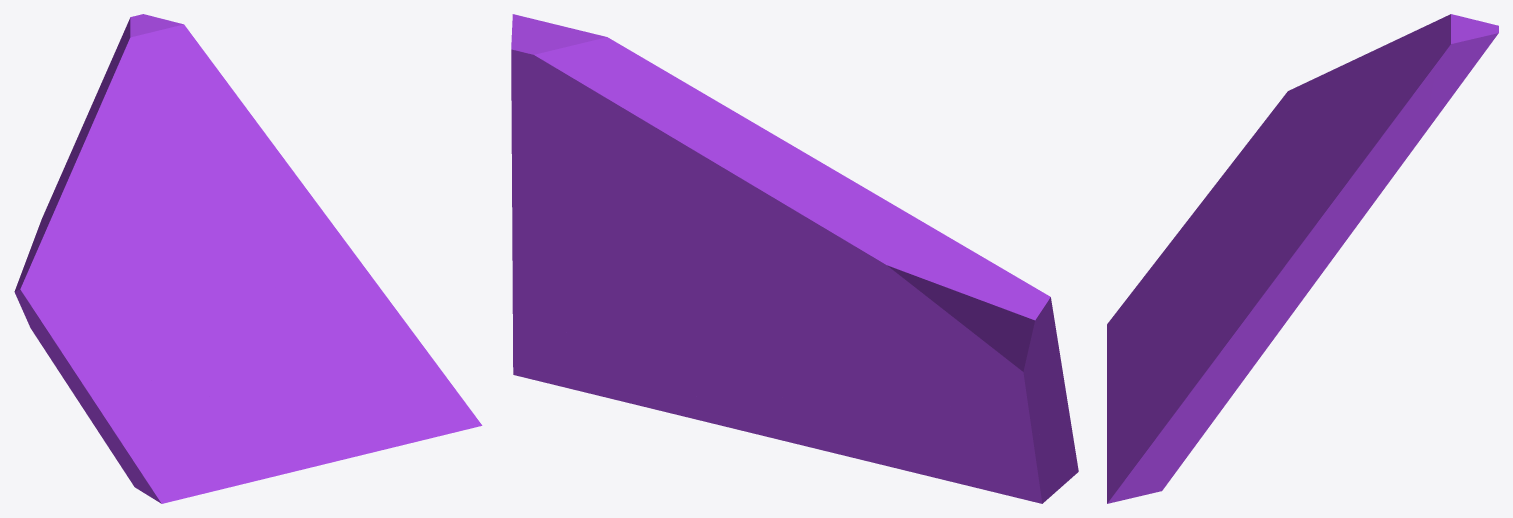
File: Window_131_2_chunks.fbx
The picture shows the model from 3 angles, left to right: view 1: azimuth 30°, elevation 25°; view 2: azimuth 150°, elevation 25°; view 3: azimuth 270°, elevation 25°; orthographic projection. The views are drawn at different scales.
Visible parts, largest first — view 1: Window_131_2_7, Window_131_2_0, Window_131_2_5, Window_131_2_11, Window_131_2_15, Window_131_2_8, Window_131_2_9, Window_131_2_3, Window_131_2_4, Window_131_2_10, Window_131_2_6, Window_131_2_14 (+1 smaller); view 2: Window_131_2_0, Window_131_2_11, Window_131_2_2, Window_131_2_9, Window_131_2_3, Window_131_2_1, Window_131_2_15, Window_131_2_8, Window_131_2_13, Window_131_2_5, Window_131_2_14, Window_131_2_4; view 3: Window_131_2_9, Window_131_2_7, Window_131_2_3, Window_131_2_15, Window_131_2_11, Window_131_2_0, Window_131_2_5, Window_131_2_10, Window_131_2_8, Window_131_2_4, Window_131_2_6, Window_131_2_14 (+1 smaller).
Part boxes in pixels (x1=…): Window_131_2_7: x1=169, y1=241, x2=347, y2=468; Window_131_2_0: x1=14, y1=132, x2=155, y2=418; Window_131_2_5: x1=95, y1=394, x2=305, y2=503; Window_131_2_11: x1=79, y1=14, x2=196, y2=158; Window_131_2_15: x1=327, y1=341, x2=482, y2=441; Window_131_2_8: x1=106, y1=150, x2=278, y2=263; Window_131_2_9: x1=217, y1=125, x2=362, y2=264; Window_131_2_3: x1=265, y1=263, x2=424, y2=348; Window_131_2_4: x1=84, y1=238, x2=172, y2=425; Window_131_2_10: x1=169, y1=41, x2=258, y2=181; Window_131_2_6: x1=146, y1=320, x2=214, y2=406; Window_131_2_14: x1=326, y1=398, x2=414, y2=458; Window_131_2_0: x1=740, y1=135, x2=1063, y2=446; Window_131_2_11: x1=511, y1=14, x2=773, y2=211; Window_131_2_2: x1=694, y1=265, x2=1005, y2=494; Window_131_2_9: x1=511, y1=111, x2=643, y2=258; Window_131_2_3: x1=512, y1=243, x2=668, y2=340; Window_131_2_1: x1=658, y1=262, x2=814, y2=412; Window_131_2_15: x1=513, y1=328, x2=662, y2=402; Window_131_2_8: x1=642, y1=192, x2=758, y2=272; Window_131_2_13: x1=614, y1=336, x2=888, y2=453; Window_131_2_5: x1=965, y1=401, x2=1078, y2=503; Window_131_2_14: x1=627, y1=386, x2=928, y2=476; Window_131_2_4: x1=942, y1=376, x2=1067, y2=453; Window_131_2_9: x1=1245, y1=114, x2=1434, y2=319; Window_131_2_7: x1=1107, y1=168, x2=1295, y2=428; Window_131_2_3: x1=1173, y1=250, x2=1297, y2=424; Window_131_2_15: x1=1107, y1=342, x2=1210, y2=503; Window_131_2_11: x1=1362, y1=14, x2=1498, y2=119; Window_131_2_0: x1=1206, y1=43, x2=1389, y2=196; Window_131_2_5: x1=1107, y1=229, x2=1189, y2=404; Window_131_2_10: x1=1331, y1=64, x2=1436, y2=164; Window_131_2_8: x1=1261, y1=71, x2=1367, y2=258; Window_131_2_4: x1=1181, y1=156, x2=1300, y2=245; Window_131_2_6: x1=1168, y1=218, x2=1238, y2=301; Window_131_2_14: x1=1107, y1=381, x2=1151, y2=465.
Bounding box in the file's own units: 934 × 763 × 720.
